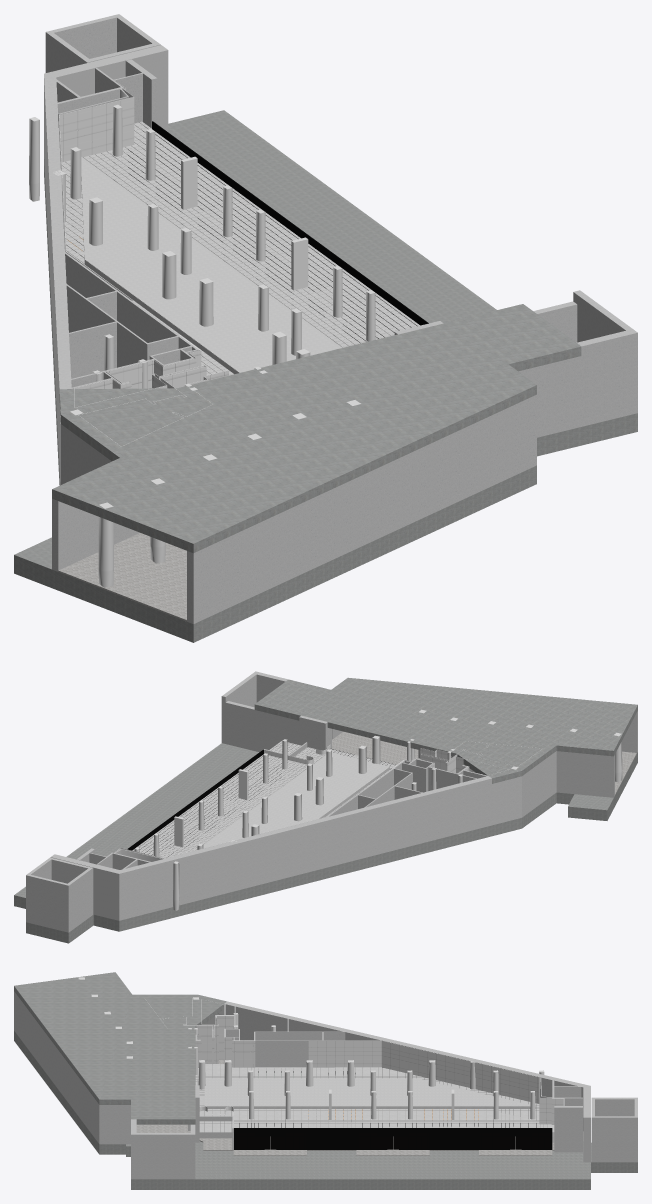
File: station-b2-concourse.glb
3 renders of one model, top to bottom at view 1: azimuth 30°, elevation 25°; view 2: azimuth 150°, elevation 25°; view 3: azimuth 270°, elevation 25°, orthographic. The views are drawn at different scales.
Visible parts, largest first — view 1: Node; view 2: Node; view 3: Node.
Boxes of the visible parts, <box> form: Node: <box>14,14,637,642</box>; Node: <box>14,671,637,943</box>; Node: <box>14,972,637,1189</box>.
Bounding box in the file's own units: 64.33 × 9.94 × 102.
9 materials, 9 textured.
